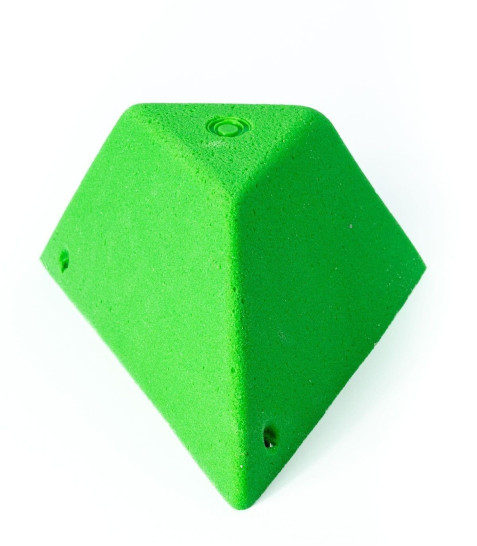hold: (40, 101, 424, 506)
